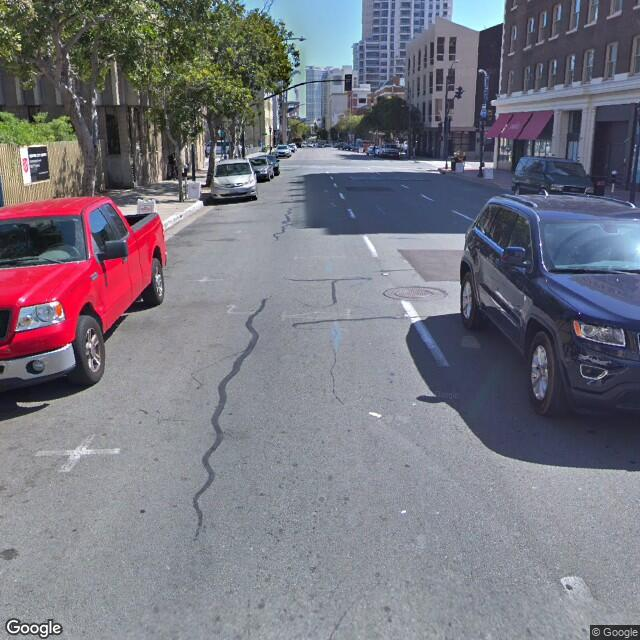road line: (362, 234, 462, 373), (330, 174, 361, 225)
